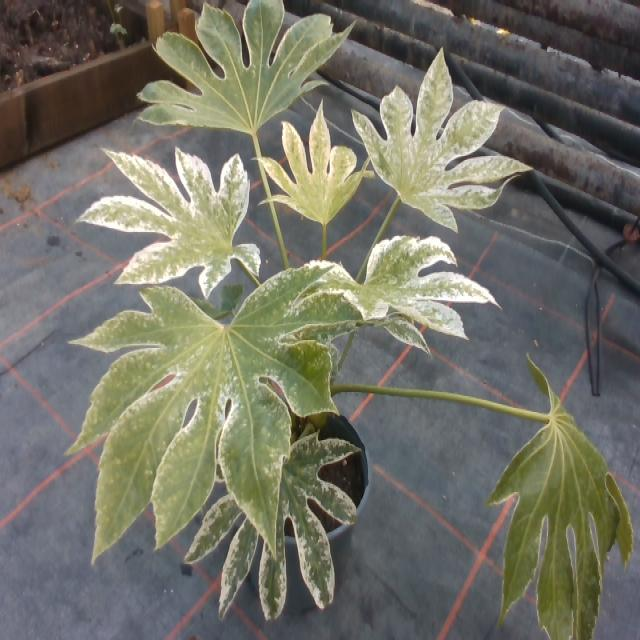Fatsia-japonica: (57, 257, 357, 528), (160, 378, 354, 614), (489, 337, 640, 640), (353, 44, 526, 228), (70, 135, 274, 281), (139, 0, 352, 136), (314, 240, 486, 354), (260, 120, 366, 225)
